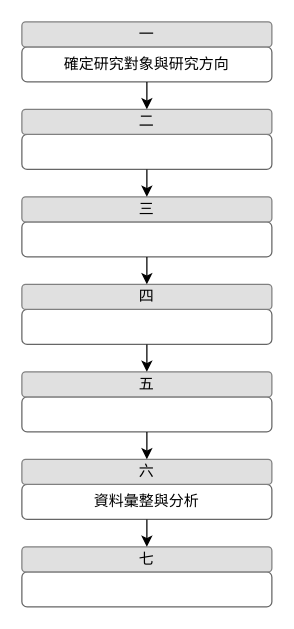
The diagram is 294 pixels wide and 629 high, and some of its shapes have lost their labels. The shapes that lost their labels are listed below. From the top down, each one's box as (x1, y1, x2, y2) in pixels, then its label:
(21, 133, 272, 169): 訂定研究議題
(21, 221, 272, 257): 蒐集相關文獻與探討
(21, 308, 272, 344): 蒐集個案資料
(21, 396, 272, 432): 訂定研究架構與觀察重點
(21, 571, 272, 607): 提出研究成果
